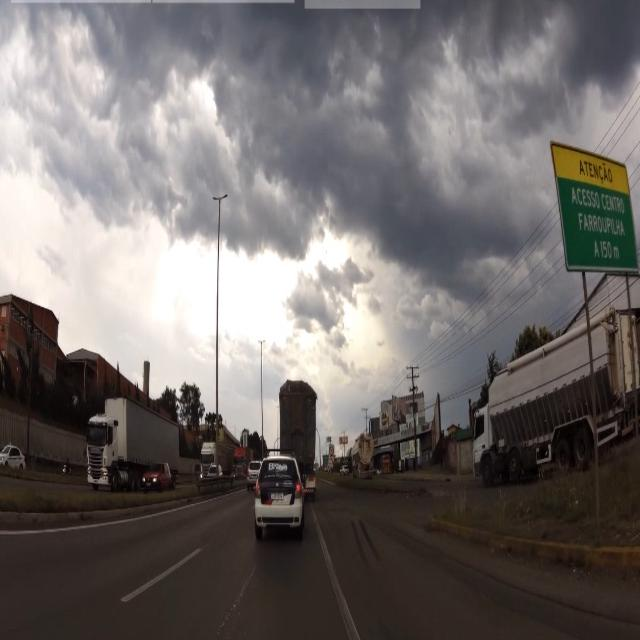I-4: (557, 174, 628, 269)
